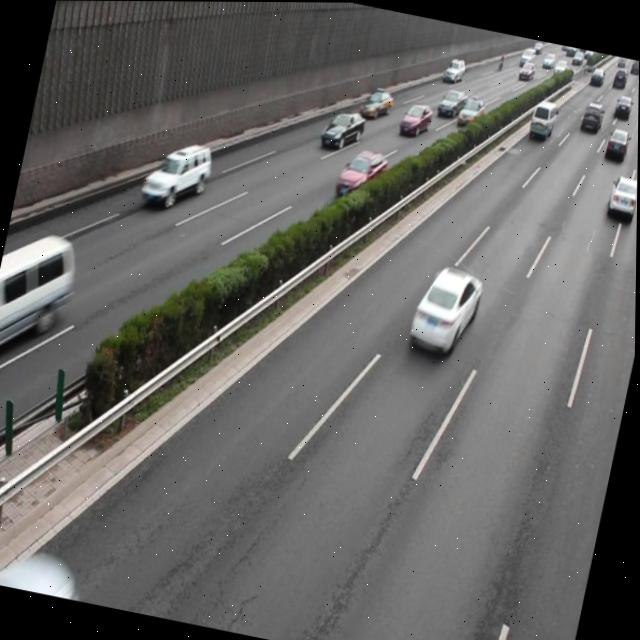car: (406, 257, 486, 358), (140, 133, 217, 211), (0, 535, 90, 601), (335, 142, 389, 204), (319, 104, 367, 155), (605, 172, 638, 219), (398, 98, 433, 141), (359, 83, 394, 122), (455, 92, 486, 129), (603, 124, 630, 160), (437, 86, 467, 117)
truck: (0, 224, 84, 393)
